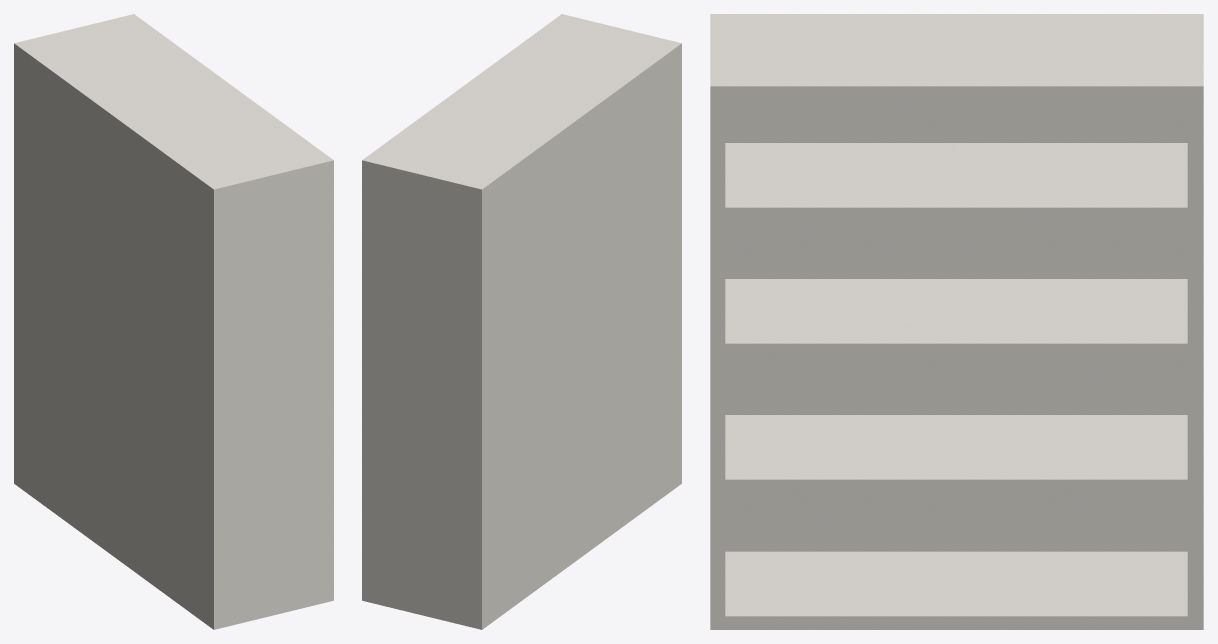
File: shelf_plastic.fbx
3 renders of one model, left to right at view 1: azimuth 30°, elevation 25°; view 2: azimuth 150°, elevation 25°; view 3: azimuth 270°, elevation 25°, orthographic. The views are drawn at different scales.
Parts seen in each view (by area): view 1: shelve:Mesh; view 2: shelve:Mesh; view 3: shelve:Mesh.
Part boxes in pixels (x1,y1,x2,y2): shelve:Mesh: [14, 14, 333, 629]; shelve:Mesh: [362, 14, 681, 629]; shelve:Mesh: [710, 14, 1203, 629].
Bounding box in the file's own units: 2.75 × 9.63 × 7.92.
Materials: 1 (1 with a texture image).
